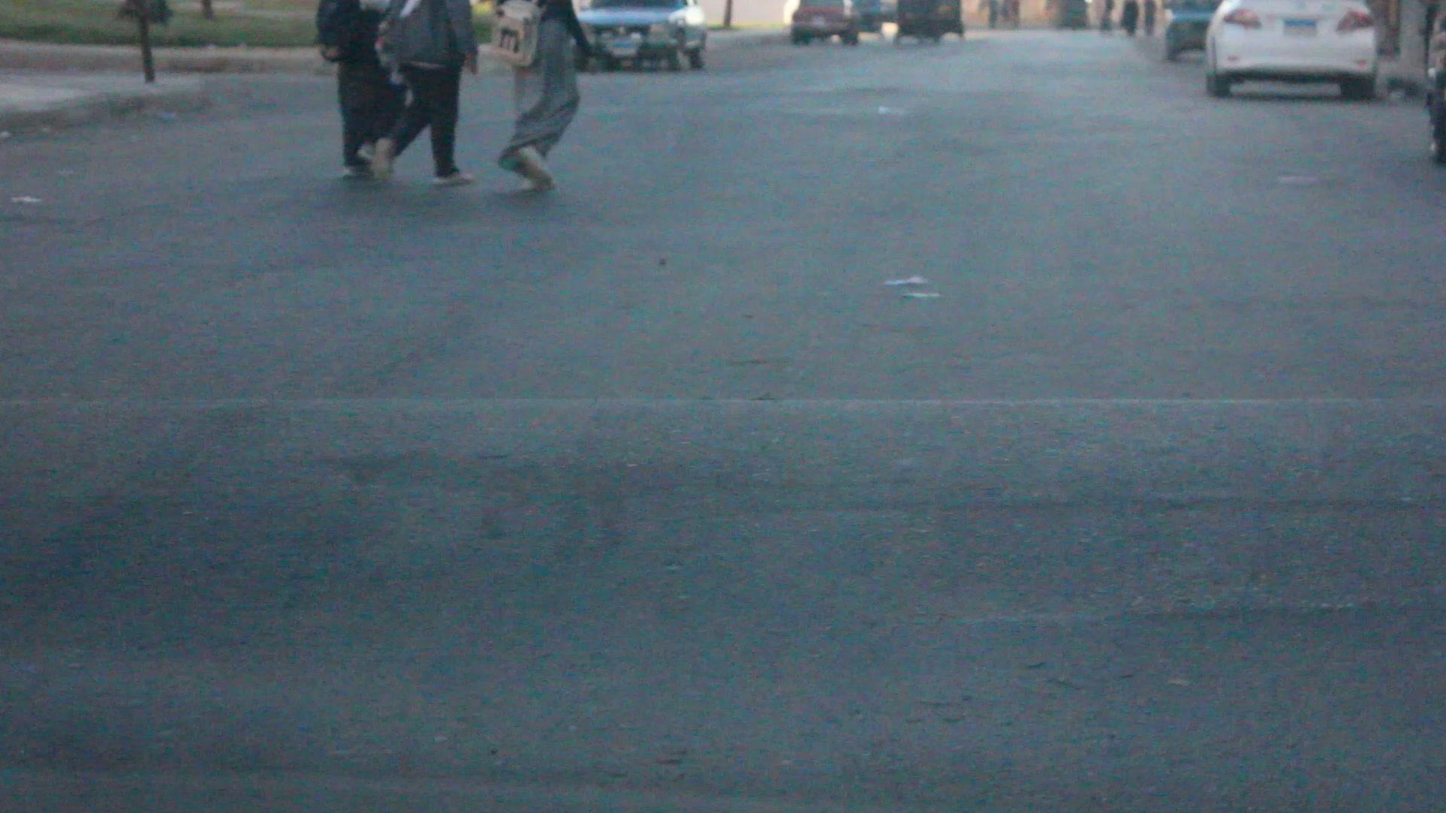Bump: (6, 380, 1446, 693)
